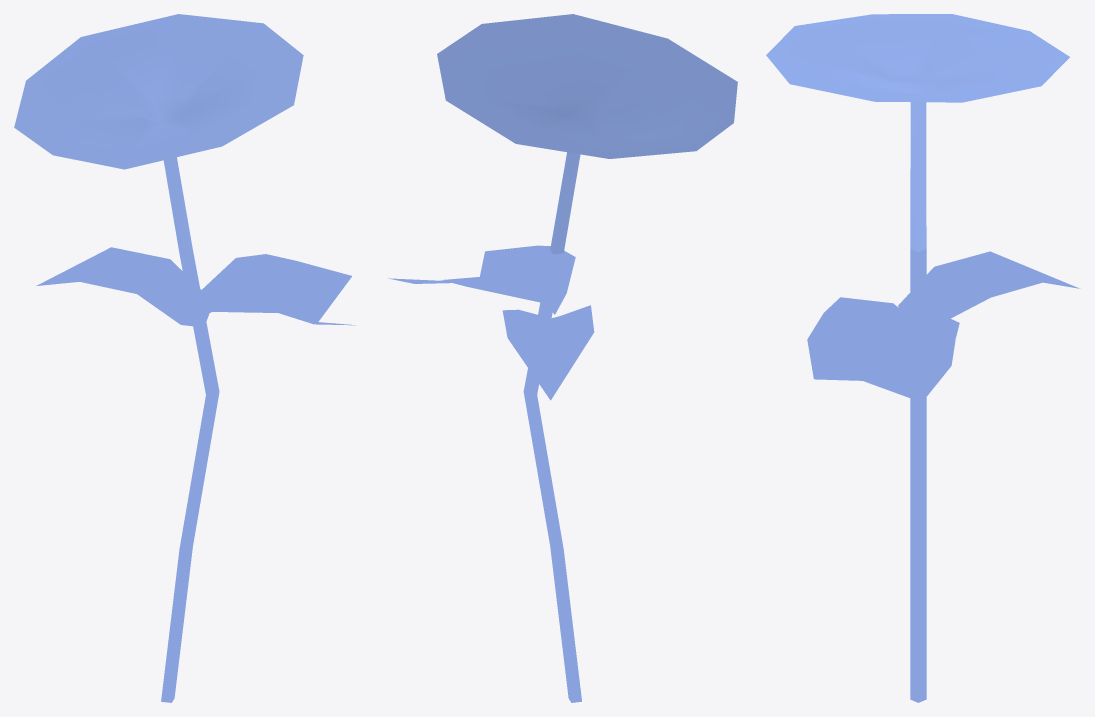
File: SM_Blue_Flower.glb
The picture shows the model from 3 angles, left to right: view 1: azimuth 30°, elevation 25°; view 2: azimuth 150°, elevation 25°; view 3: azimuth 270°, elevation 25°; orthographic projection. The views are drawn at different scales.
Parts seen in each view (by area): view 1: SM_Blue_Flower; view 2: SM_Blue_Flower; view 3: SM_Blue_Flower.
Boxes of the visible parts, box(x1,y1,x2,y2) form: SM_Blue_Flower: box(14, 14, 355, 702); SM_Blue_Flower: box(388, 14, 737, 702); SM_Blue_Flower: box(766, 14, 1080, 702).
Size of the model in its own units: 0.1679 by 0.3135 by 0.1364.
